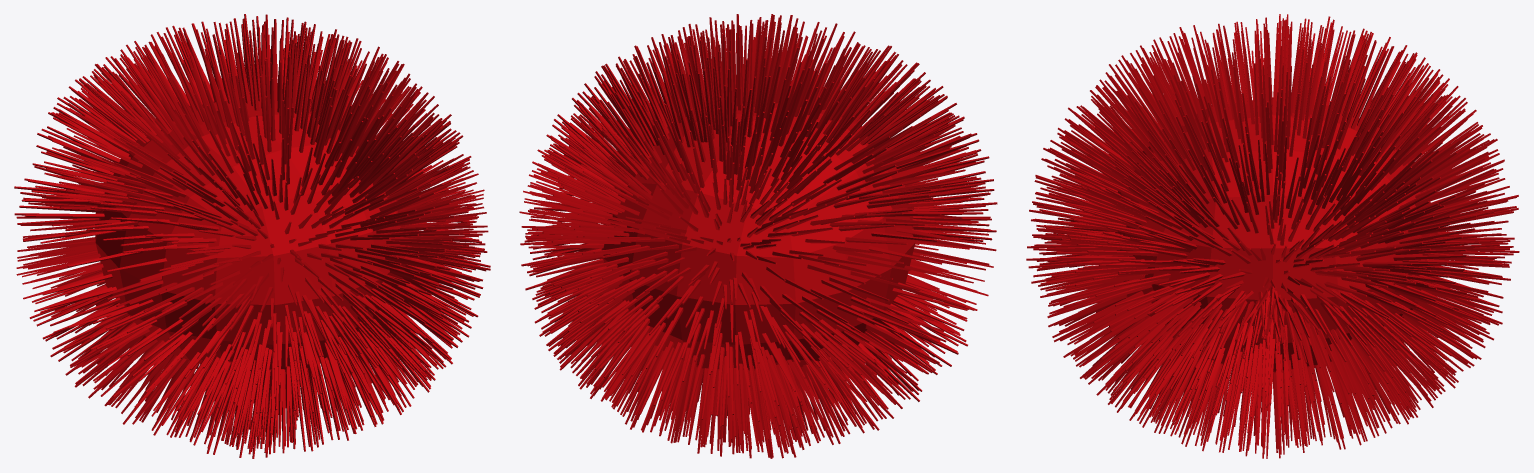
Rendered from ErizoRojo.glb.
3 renders of one model, left to right at view 1: azimuth 30°, elevation 25°; view 2: azimuth 150°, elevation 25°; view 3: azimuth 270°, elevation 25°, orthographic.
Parts seen in each view (by area): view 1: Seaurchin; view 2: Seaurchin; view 3: Seaurchin.
Boxes of the visible parts, box(x1,y1,x2,y2) form: Seaurchin: box(14, 14, 490, 458); Seaurchin: box(519, 14, 997, 458); Seaurchin: box(1026, 14, 1519, 458).
Bounding box in the file's own units: 0.1075 × 0.0986 × 0.1126.
